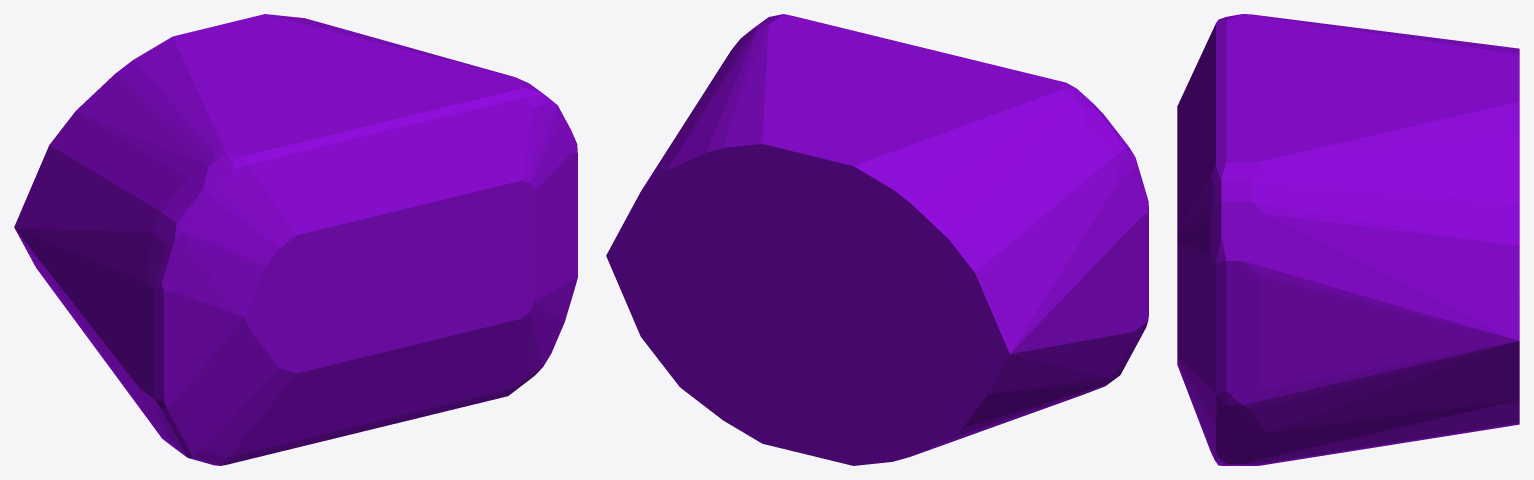
The model's file is model3_convex_piece_001.obj.
The picture shows the model from 3 angles, left to right: view 1: azimuth 30°, elevation 25°; view 2: azimuth 150°, elevation 25°; view 3: azimuth 270°, elevation 25°; orthographic projection. The views are drawn at different scales.
Bounding box in the file's own units: 0.0223 × 0.0153 × 0.0149.
